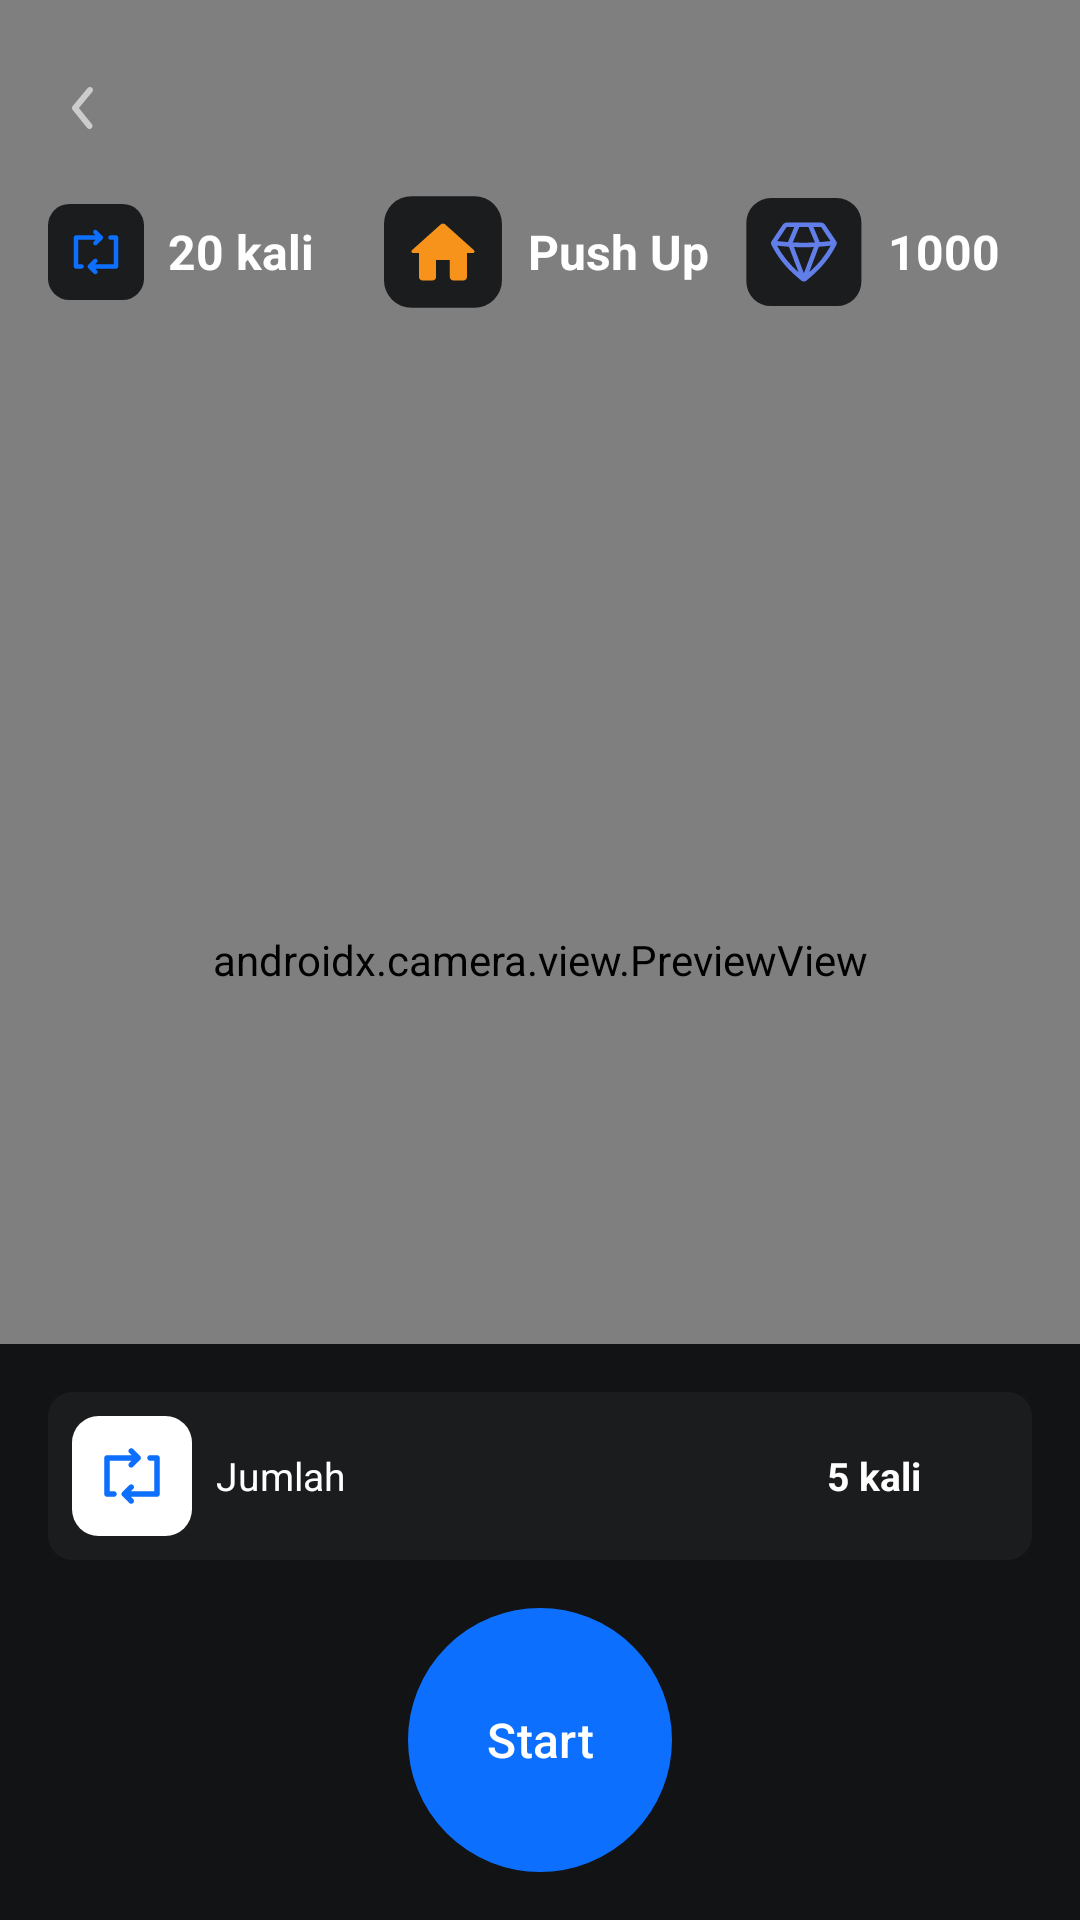

Screen size 1080×1920. Icon name, then its box in pixels as (x1, y1, x2, y2):
arrow left: (72, 87, 93, 129)
